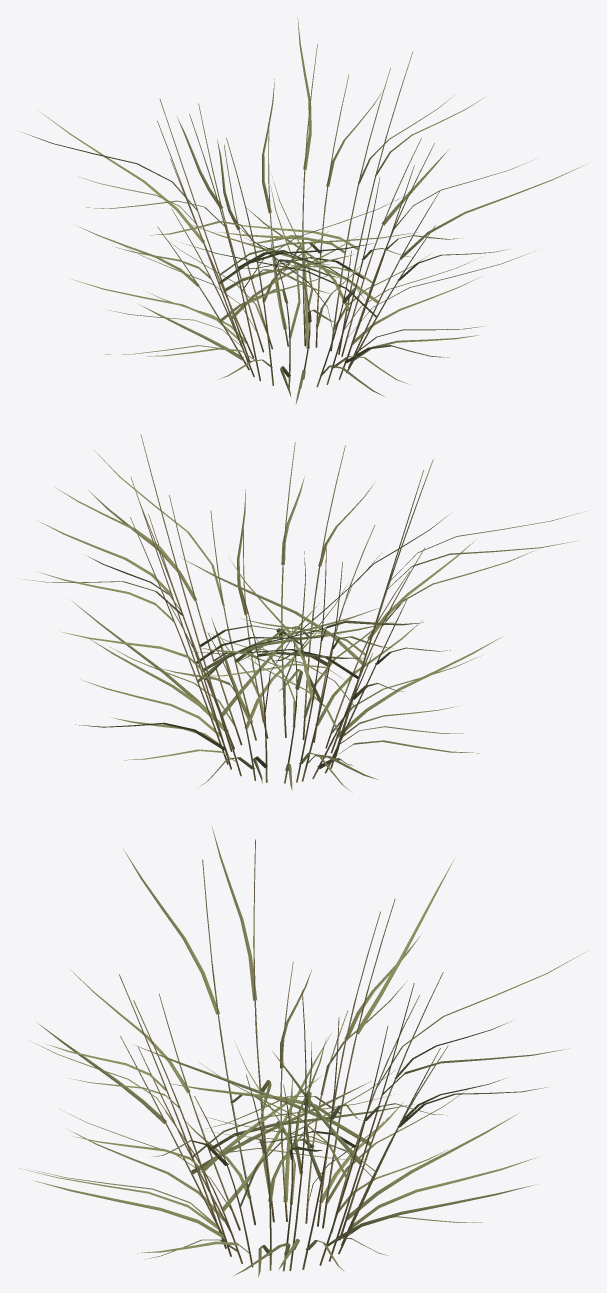
The model's file is Herbes_1_Niveau0.fbx.
3 views of the same model, one above another, from view 1: azimuth 30°, elevation 25°; view 2: azimuth 150°, elevation 25°; view 3: azimuth 270°, elevation 25° (orthographic). The views are drawn at different scales.
Parts seen in each view (by area): view 1: Herbes_1_Niveau0_Jeu; view 2: Herbes_1_Niveau0_Jeu; view 3: Herbes_1_Niveau0_Jeu.
Part boxes in pixels (box(x1,y1,x2,y2)): Herbes_1_Niveau0_Jeu: box(23, 17, 584, 404); Herbes_1_Niveau0_Jeu: box(22, 434, 579, 791); Herbes_1_Niveau0_Jeu: box(20, 827, 586, 1277).
Size of the model in its own units: 72.9 by 41.95 by 64.96.
